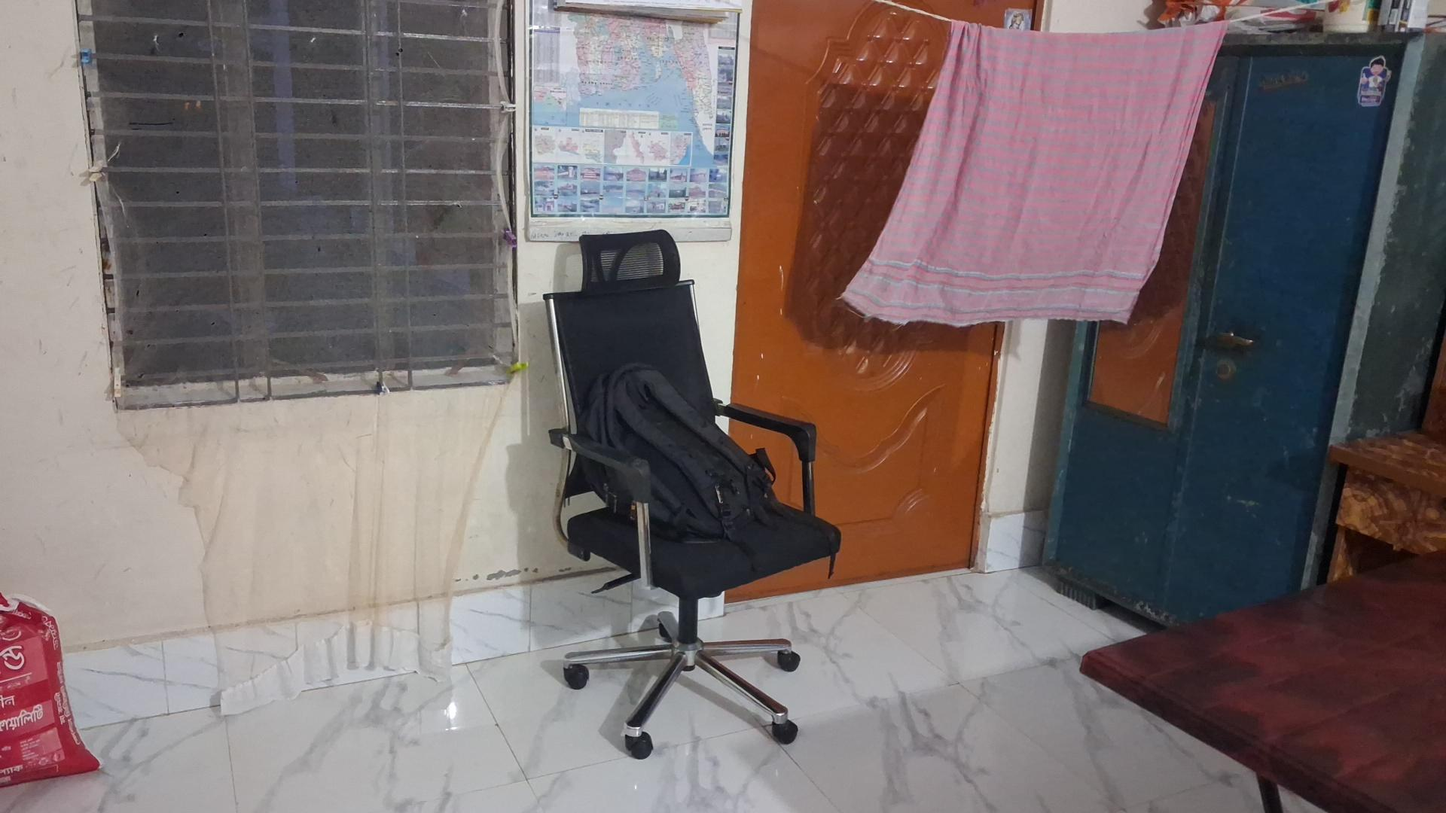Chair: (543, 237, 841, 758)
Towel: (851, 5, 1225, 322)
Window: (66, 2, 517, 408)
